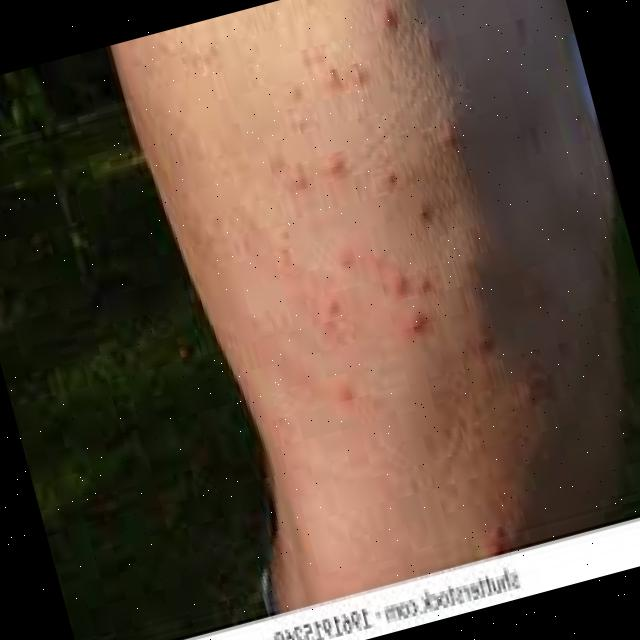kan emici bocekler: (400, 304, 444, 351), (331, 245, 358, 281), (320, 151, 349, 182), (391, 267, 414, 299)
